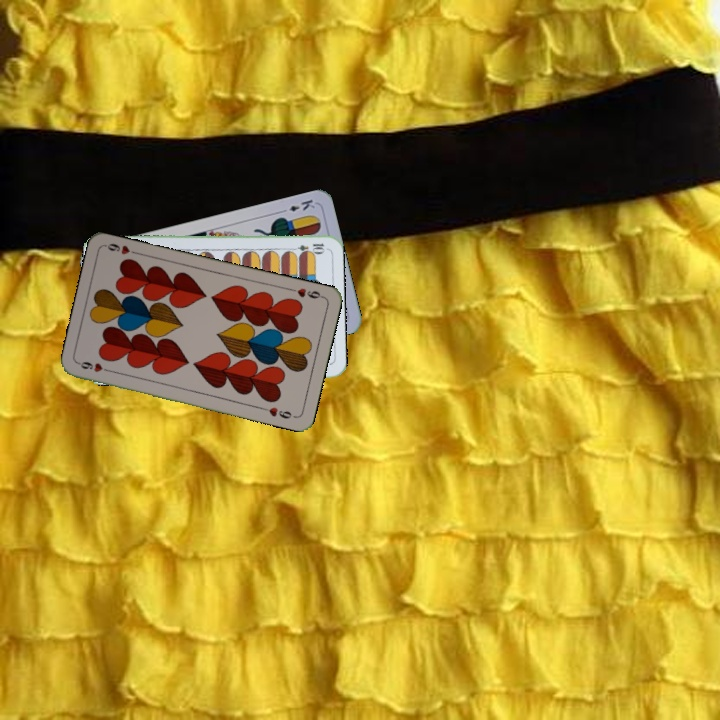E10: (286, 239, 327, 254)
EK: (277, 195, 317, 216)
H9: (75, 357, 115, 375), (286, 284, 326, 301)
